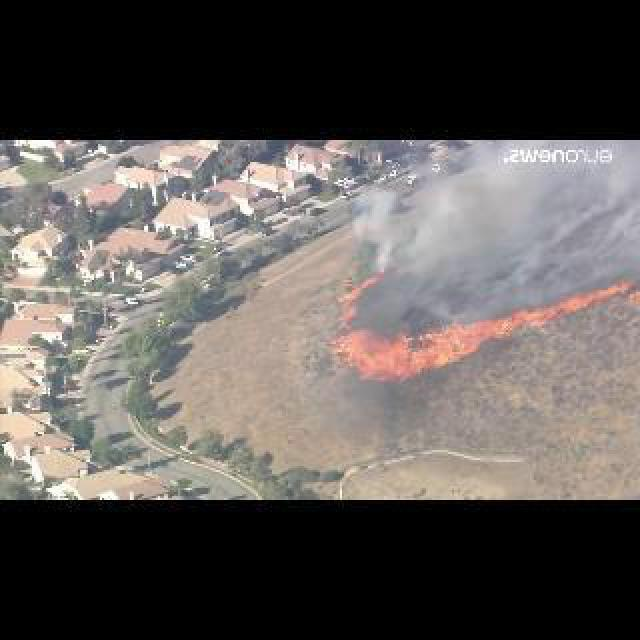Fire: (328, 318, 502, 380), (504, 284, 638, 330), (332, 274, 382, 328)
